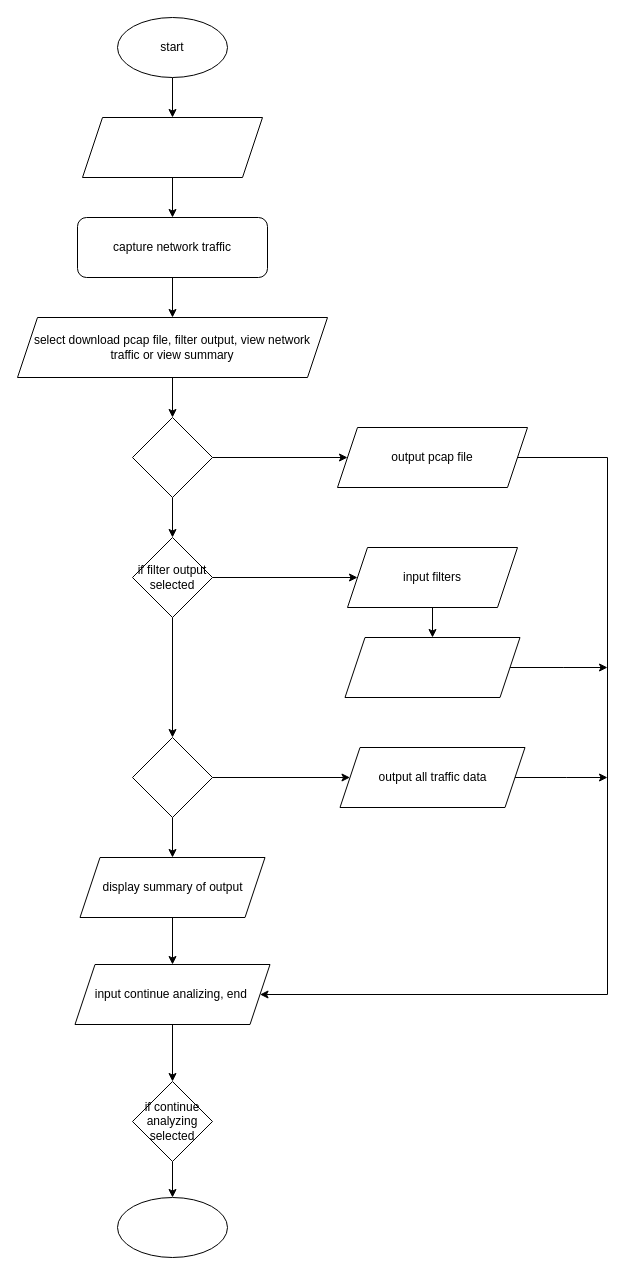
The diagram is 633 pixels wide and 1275 high, and some of its shapes have lost their labels. The box of each missing label's shape, as (x1, y1, x2, y2) in pixels:
end: (116, 1196, 228, 1258)
if download pcap file selected: (132, 416, 212, 498)
if view network traffic selected: (132, 736, 212, 818)
input network interface: (82, 116, 262, 178)
output filtered traffic data: (344, 636, 520, 698)
